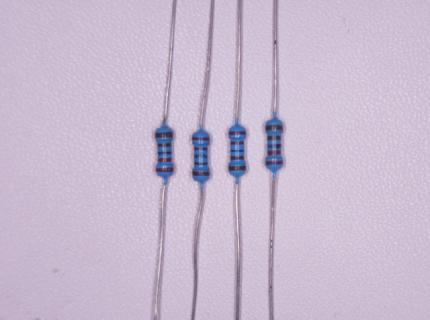Black band: (267, 144, 281, 149), (194, 155, 208, 159), (158, 152, 171, 155), (231, 150, 244, 152)
Brown band: (155, 132, 173, 138), (266, 125, 283, 130), (229, 166, 245, 171), (192, 172, 209, 176), (157, 143, 171, 147), (230, 156, 244, 160), (268, 136, 280, 140), (194, 162, 207, 165)
Red band: (156, 168, 174, 172), (266, 161, 283, 165), (268, 150, 281, 155), (158, 158, 172, 162), (192, 137, 210, 140), (231, 141, 244, 145), (229, 132, 246, 135), (194, 148, 207, 150)
